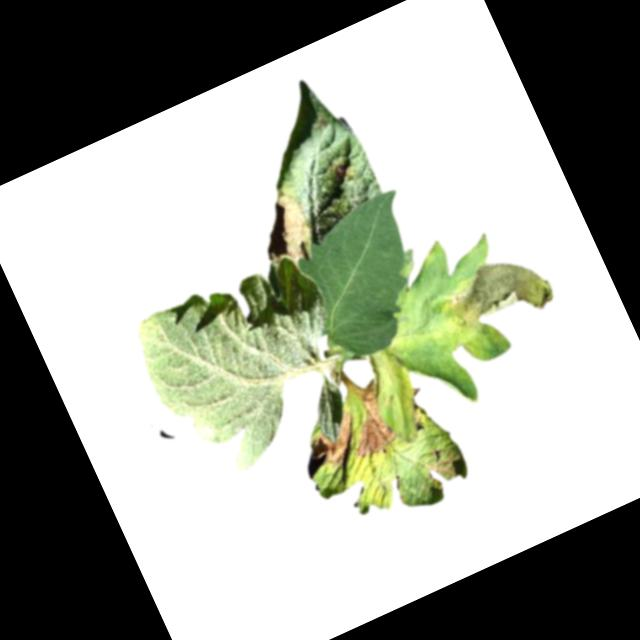Late_blight: (432, 240, 559, 348), (330, 363, 437, 463), (242, 183, 319, 270), (303, 408, 370, 472), (327, 159, 353, 185)
healthy: (125, 246, 375, 491), (280, 184, 455, 371)
